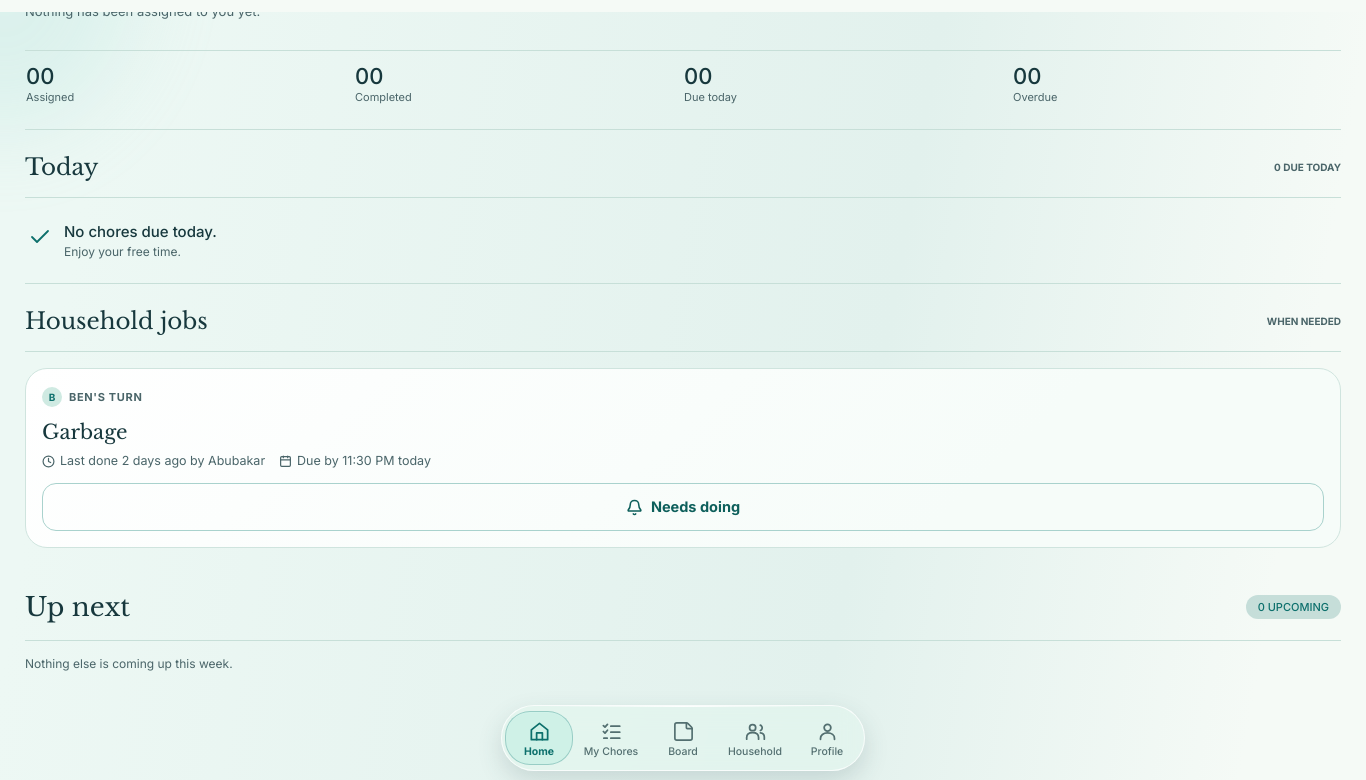
Test: household jobs (When needed) on Home and My Chores › puts the Needs doing confirmation under the job card, then holds Reminder sent
The width and height of the screenshot is (1366, 780).
(page scrolled)
Expected: the heading "Today" is shown, left=25, top=154, right=98, bottom=182
Click the button with aria-label "Needs doing: Garbage". click: (683, 507)
box: left=42, top=483, right=1324, bottom=531
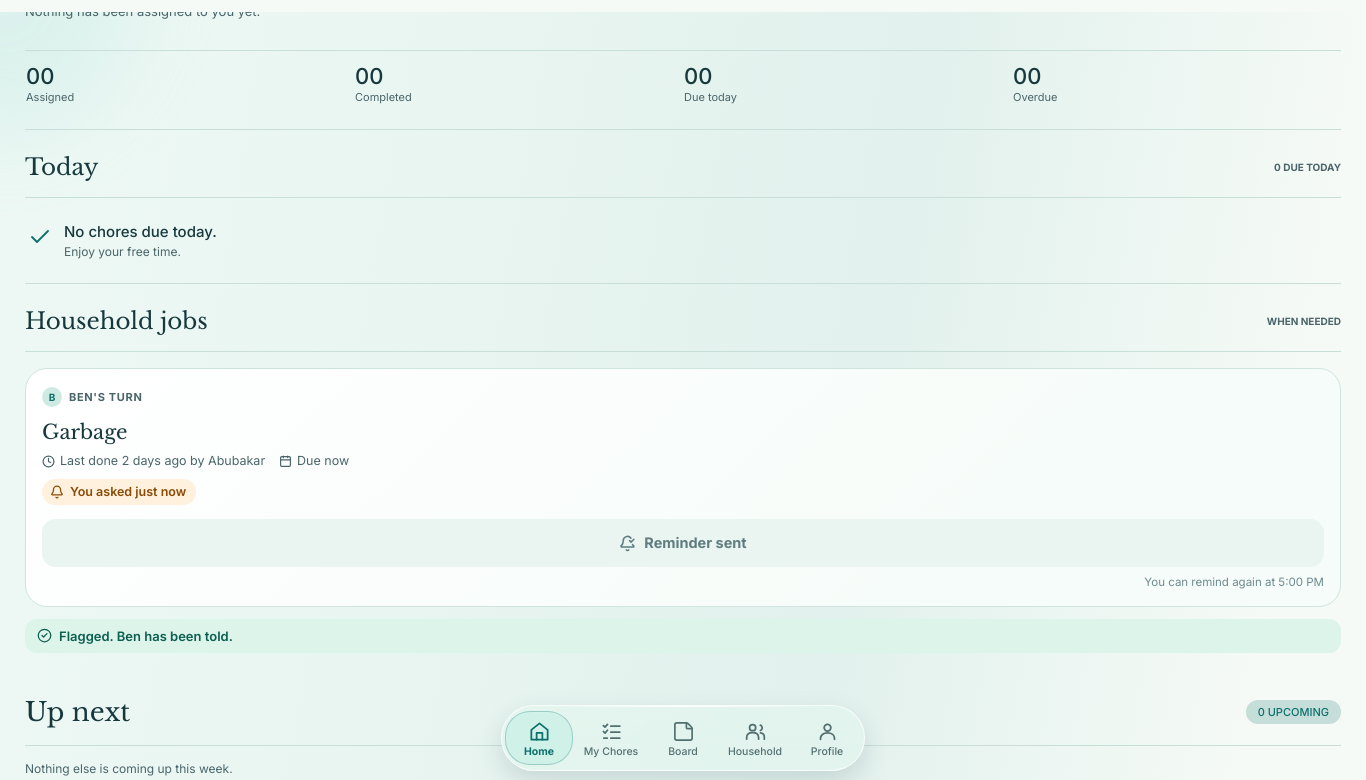
Expected: the message reads "Flagged. Ben has been told.", left=59, top=628, right=233, bottom=644
Expected: the text "You asked just now" is shown, left=42, top=479, right=196, bottom=505
Expected: the text "You can remind again at 5:00 PM" is shown, left=1144, top=575, right=1324, bottom=589
